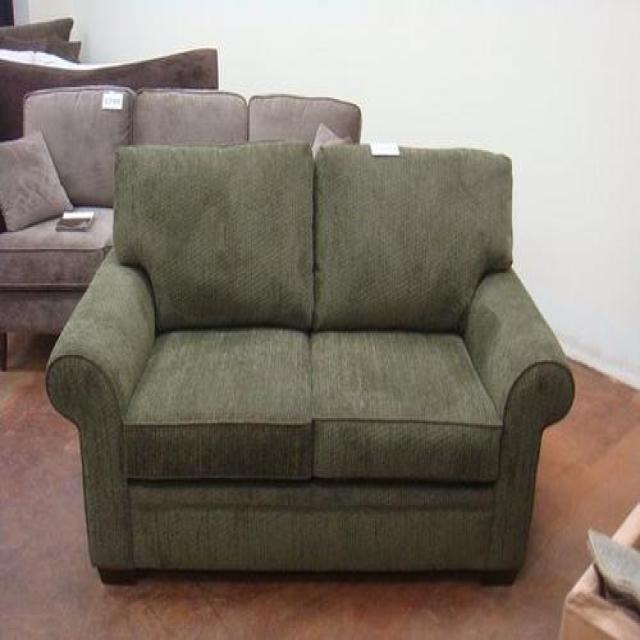sofa: (46, 142, 574, 585)
